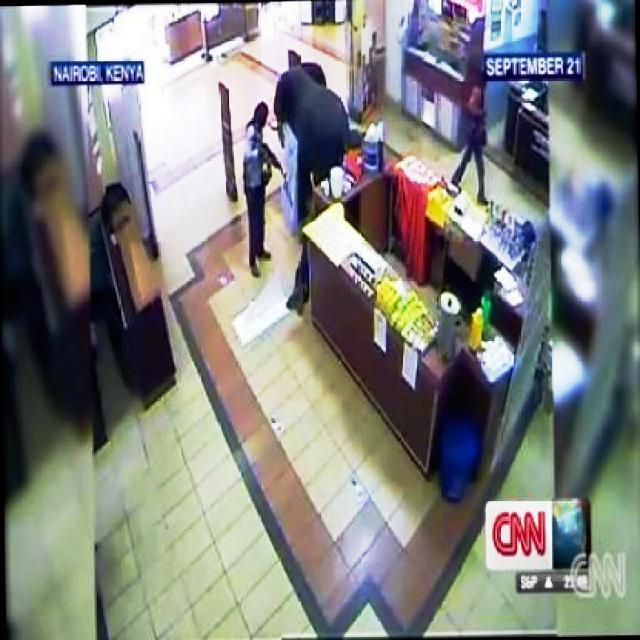Gun: (252, 144, 288, 176)
